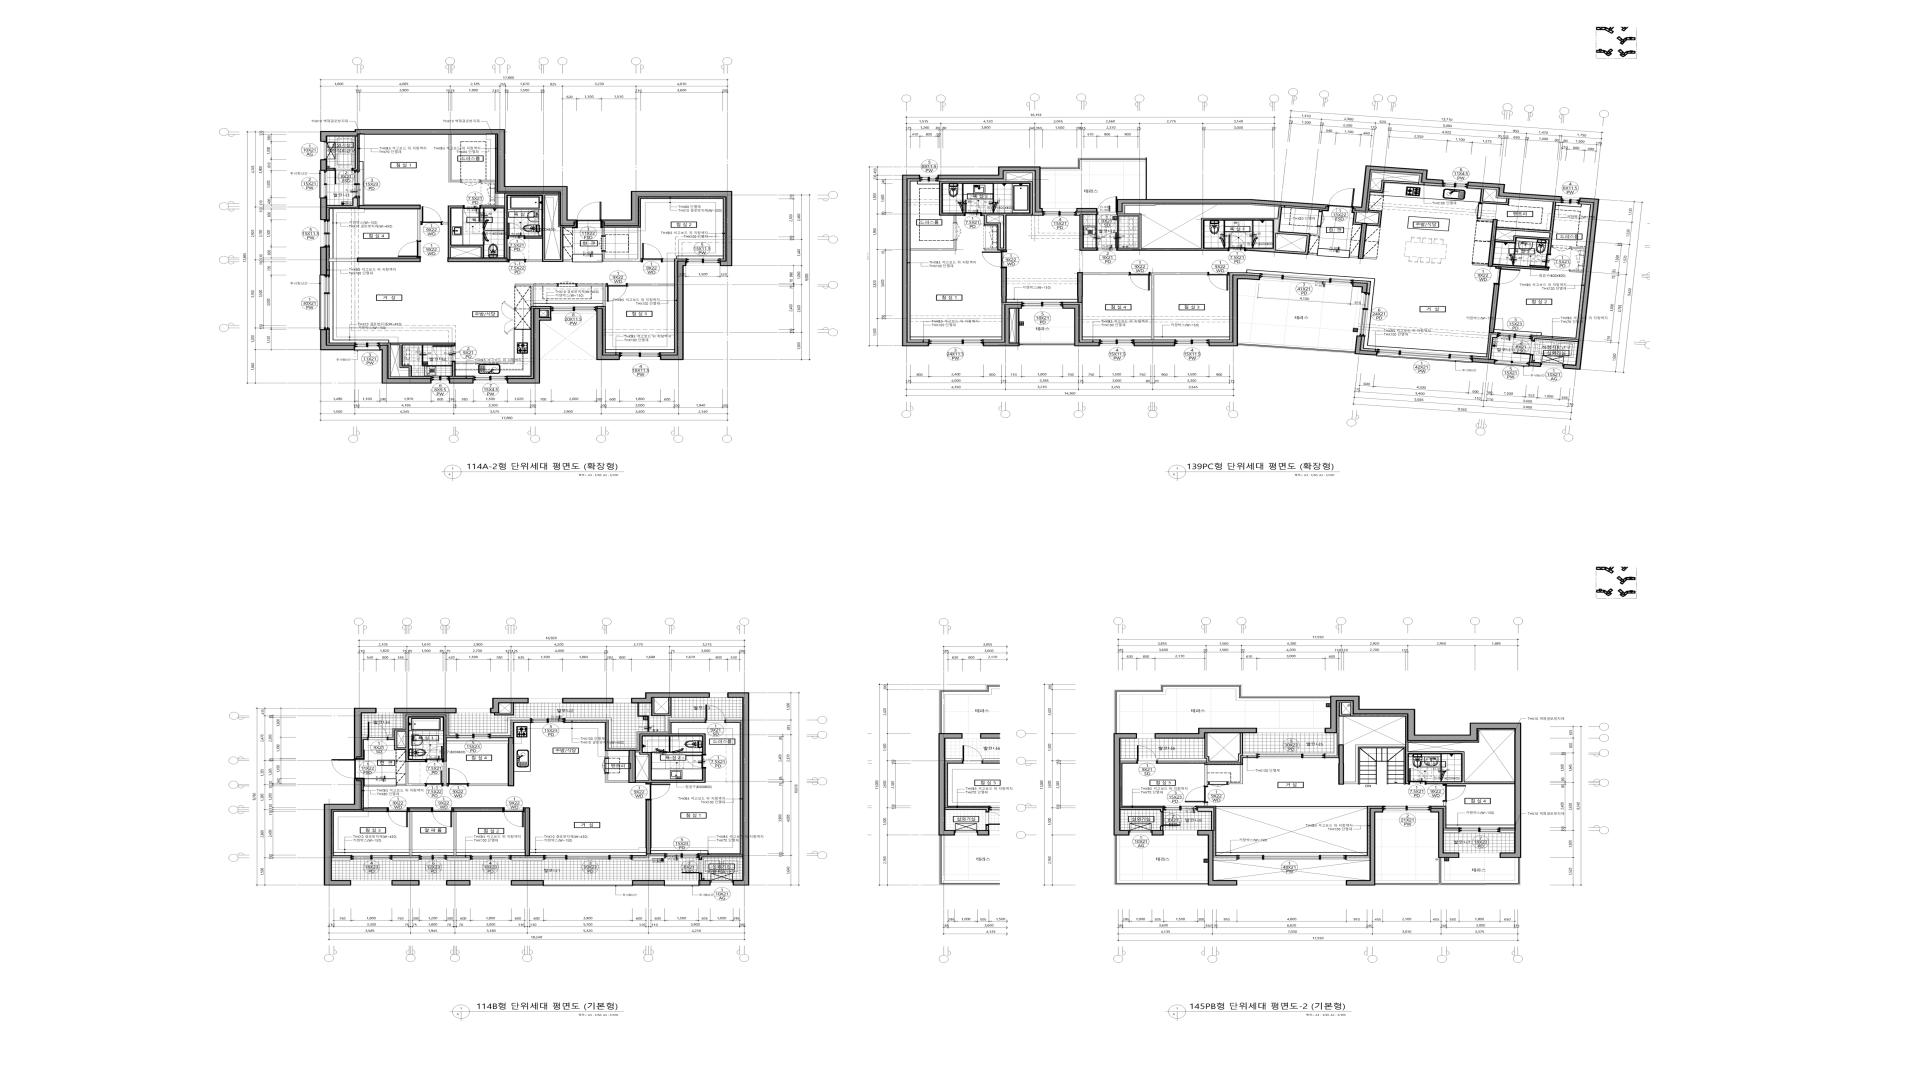door: (1328, 186, 1356, 214), (331, 758, 364, 779), (576, 202, 601, 228), (1494, 268, 1520, 286), (431, 807, 454, 828), (502, 807, 525, 827), (386, 807, 409, 827), (645, 783, 670, 800), (982, 251, 1007, 268), (447, 767, 468, 787), (367, 721, 388, 741), (641, 243, 662, 262), (1129, 272, 1151, 290), (605, 284, 628, 302), (1443, 785, 1466, 802), (1208, 272, 1229, 290), (1137, 745, 1158, 764), (421, 207, 442, 225), (1185, 786, 1208, 803), (1097, 196, 1117, 215), (705, 704, 725, 723), (1097, 232, 1117, 251), (433, 345, 455, 361), (398, 241, 421, 257), (1513, 340, 1535, 356), (1530, 252, 1552, 268), (682, 858, 703, 874), (964, 199, 982, 216), (1228, 235, 1246, 252), (686, 754, 707, 769), (335, 167, 352, 185), (1408, 769, 1427, 785), (508, 247, 526, 262), (463, 206, 481, 222), (426, 746, 443, 762), (426, 771, 443, 787), (508, 223, 525, 239), (1160, 812, 1180, 825), (460, 179, 481, 186), (1551, 245, 1572, 252), (953, 223, 961, 240), (1474, 203, 1482, 219), (601, 758, 609, 773), (1208, 782, 1228, 787), (558, 281, 576, 286)
wall: (1325, 696, 1522, 858), (320, 129, 576, 225), (1114, 684, 1331, 733), (1117, 207, 1320, 256), (601, 191, 732, 266), (1344, 742, 1514, 785), (939, 181, 1033, 251), (1563, 198, 1600, 371), (481, 194, 572, 262), (938, 166, 1043, 212), (902, 175, 930, 347), (1114, 836, 1208, 885), (1040, 158, 1147, 199), (1353, 166, 1443, 212), (728, 692, 749, 886), (323, 779, 361, 886), (1375, 858, 1520, 885), (1151, 273, 1208, 340), (394, 715, 447, 786), (1209, 274, 1261, 347), (636, 733, 705, 783), (506, 309, 551, 384), (1495, 202, 1556, 253), (1158, 733, 1257, 764), (1346, 808, 1383, 886), (1117, 199, 1328, 212), (659, 261, 686, 360), (1113, 733, 1137, 836), (390, 343, 455, 377), (1197, 831, 1237, 886), (442, 206, 484, 257), (1017, 309, 1075, 345), (380, 345, 431, 384), (651, 698, 705, 732), (1468, 182, 1563, 200), (982, 305, 1022, 347), (1063, 305, 1100, 347), (564, 717, 612, 749), (1431, 808, 1460, 858), (603, 228, 641, 262), (1238, 343, 1356, 353), (596, 309, 620, 360), (353, 708, 376, 758), (1155, 728, 1257, 738), (514, 284, 558, 306), (1370, 179, 1419, 196), (630, 692, 709, 703), (491, 717, 530, 736), (320, 330, 355, 351), (576, 284, 605, 306), (1080, 214, 1097, 251), (489, 698, 529, 713), (448, 135, 460, 182), (1338, 703, 1352, 745), (1480, 189, 1510, 206), (1489, 285, 1499, 334), (1487, 219, 1498, 266), (910, 240, 956, 251), (1356, 336, 1378, 356), (1197, 807, 1215, 831), (1493, 264, 1549, 270), (357, 257, 421, 262), (1358, 223, 1367, 258), (359, 204, 421, 210), (394, 708, 456, 713), (508, 737, 514, 786), (447, 257, 508, 262), (1228, 765, 1244, 785), (1532, 336, 1578, 343), (646, 800, 651, 855), (327, 198, 357, 207), (562, 698, 613, 703), (1325, 733, 1337, 756), (1487, 334, 1498, 359), (495, 703, 514, 716), (525, 807, 530, 856), (454, 807, 502, 812), (1367, 210, 1382, 227), (1121, 807, 1163, 812), (629, 750, 636, 783), (632, 880, 665, 886), (1134, 342, 1175, 347), (1338, 745, 1344, 785), (605, 774, 628, 783), (320, 247, 327, 276), (1001, 268, 1007, 297), (392, 880, 419, 886), (352, 137, 357, 170), (510, 881, 543, 886), (699, 855, 742, 858), (409, 812, 413, 856), (1077, 272, 1083, 303), (633, 856, 665, 861), (1353, 282, 1369, 293), (1472, 357, 1495, 364), (320, 198, 327, 220), (448, 378, 473, 384), (446, 881, 471, 886), (363, 807, 386, 812), (628, 284, 674, 286), (1353, 212, 1362, 225), (1083, 273, 1129, 276), (409, 807, 431, 812), (328, 258, 357, 262), (454, 812, 456, 856), (468, 783, 508, 786), (1204, 765, 1208, 786), (512, 858, 543, 861), (541, 309, 551, 316), (418, 210, 421, 241), (1076, 208, 1097, 212), (320, 160, 327, 171), (699, 880, 711, 886), (451, 363, 456, 377), (392, 858, 419, 861), (1151, 831, 1164, 836), (1528, 361, 1542, 367), (1346, 858, 1370, 861), (1213, 858, 1237, 861), (447, 858, 469, 861), (332, 858, 351, 861), (662, 258, 674, 262), (725, 717, 742, 720), (1121, 758, 1137, 761), (1477, 219, 1493, 222), (1569, 270, 1584, 273), (1572, 247, 1586, 249), (1444, 831, 1458, 833), (1473, 264, 1487, 266), (1501, 831, 1514, 833), (1364, 257, 1377, 260), (1530, 355, 1534, 363), (496, 194, 498, 206), (1349, 256, 1358, 258), (514, 785, 530, 786), (699, 874, 703, 880), (603, 228, 605, 236), (481, 181, 496, 182), (953, 216, 956, 223), (327, 167, 334, 170), (605, 752, 608, 758), (450, 733, 456, 736), (388, 735, 393, 737), (361, 735, 367, 737), (1160, 825, 1163, 831), (1444, 802, 1447, 806), (1205, 803, 1208, 806)
window: (1377, 349, 1473, 363), (1261, 273, 1353, 286), (1237, 855, 1346, 860), (1357, 293, 1370, 336), (319, 276, 330, 330), (543, 855, 633, 860), (545, 881, 632, 886), (1237, 881, 1346, 885), (1257, 728, 1325, 733), (1257, 753, 1325, 758), (551, 306, 596, 314), (930, 339, 982, 345), (620, 352, 659, 360), (1383, 806, 1431, 812), (1498, 332, 1532, 340), (686, 258, 720, 266), (1022, 302, 1063, 309), (1043, 208, 1076, 216), (473, 376, 506, 384), (320, 220, 330, 247), (1175, 339, 1209, 345), (1100, 339, 1134, 345), (469, 855, 512, 860), (1458, 827, 1501, 832), (352, 170, 360, 198), (1495, 360, 1528, 367), (351, 855, 392, 860), (319, 171, 327, 198), (1443, 181, 1468, 189), (355, 343, 380, 351), (456, 733, 491, 738), (665, 853, 699, 858), (665, 881, 699, 886), (1163, 806, 1197, 811), (456, 708, 489, 713), (351, 881, 392, 885), (471, 881, 510, 885), (1460, 853, 1499, 857), (1561, 196, 1580, 204), (419, 855, 447, 860), (431, 376, 448, 384), (530, 719, 564, 723), (529, 699, 562, 703), (1164, 831, 1197, 835), (1542, 363, 1564, 368), (711, 880, 733, 885), (920, 175, 938, 182), (320, 142, 327, 160), (419, 881, 446, 885), (1137, 733, 1155, 738), (377, 708, 394, 713), (709, 692, 727, 698), (1130, 831, 1151, 835), (613, 699, 630, 703)
